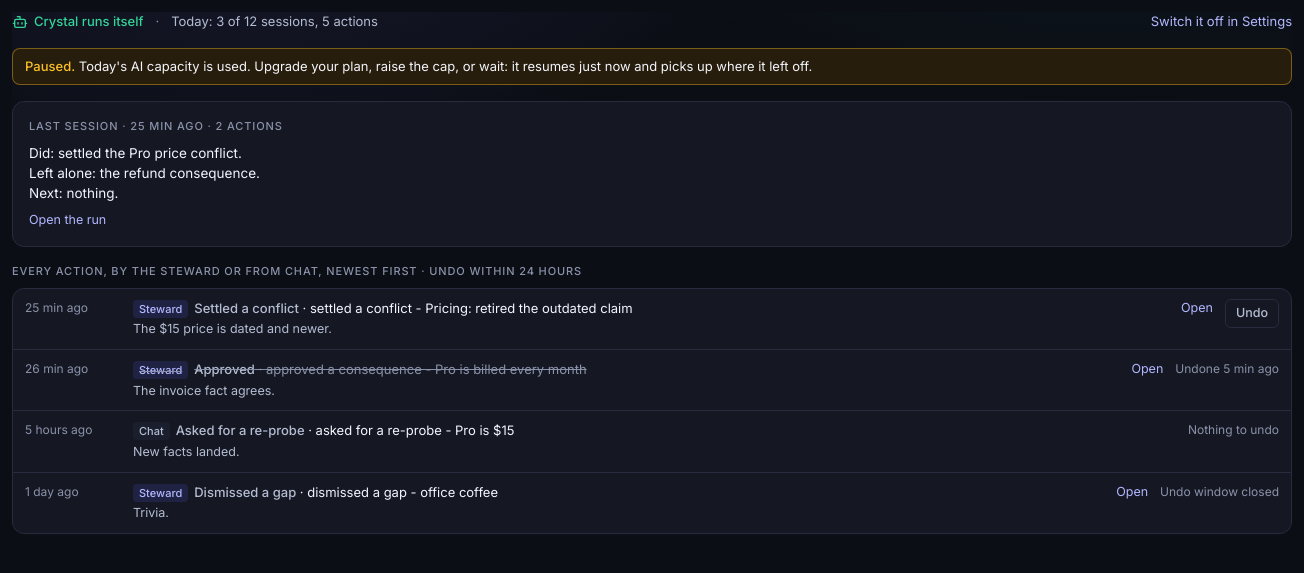
Test: Steward › shows the state, the refill ask, the brief, and undoes an action
The width and height of the screenshot is (1304, 573).
expect the text "Crystal runs itself" is shown: met, box [12,12,143,32]
expect the text "Today: 3 of 12 sessions, 5 actions" is shown: met, box [171,12,378,32]
Click the button "Undo".
click(1252, 313)  # box [1225,299,1279,328]
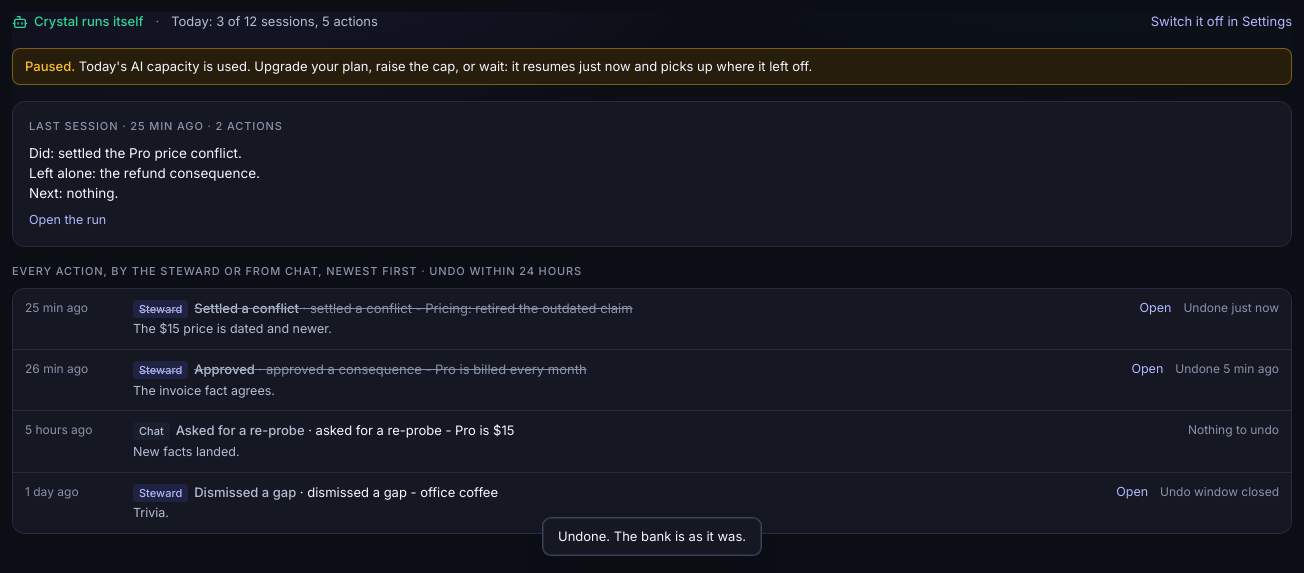
expect the text "Undone just now" is shown 2 times: met, box [1183,299,1279,317]; [1175,360,1279,378]
